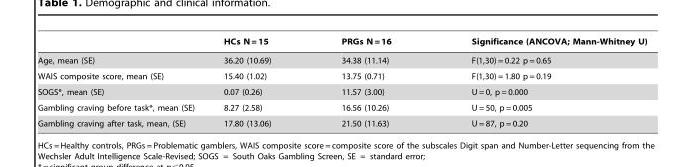table: (37, 36, 646, 127)
table column: (430, 36, 646, 127), (37, 36, 208, 127), (305, 36, 430, 127), (208, 36, 305, 127)
table column header: (37, 36, 646, 50)
table row: (37, 50, 646, 68), (37, 83, 646, 99), (37, 99, 646, 115), (37, 68, 646, 83), (37, 36, 646, 50), (37, 115, 646, 127)
